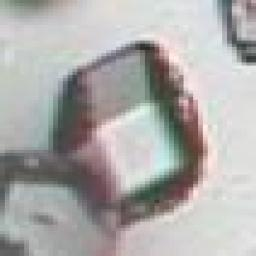crystals: (46, 42, 211, 231)
